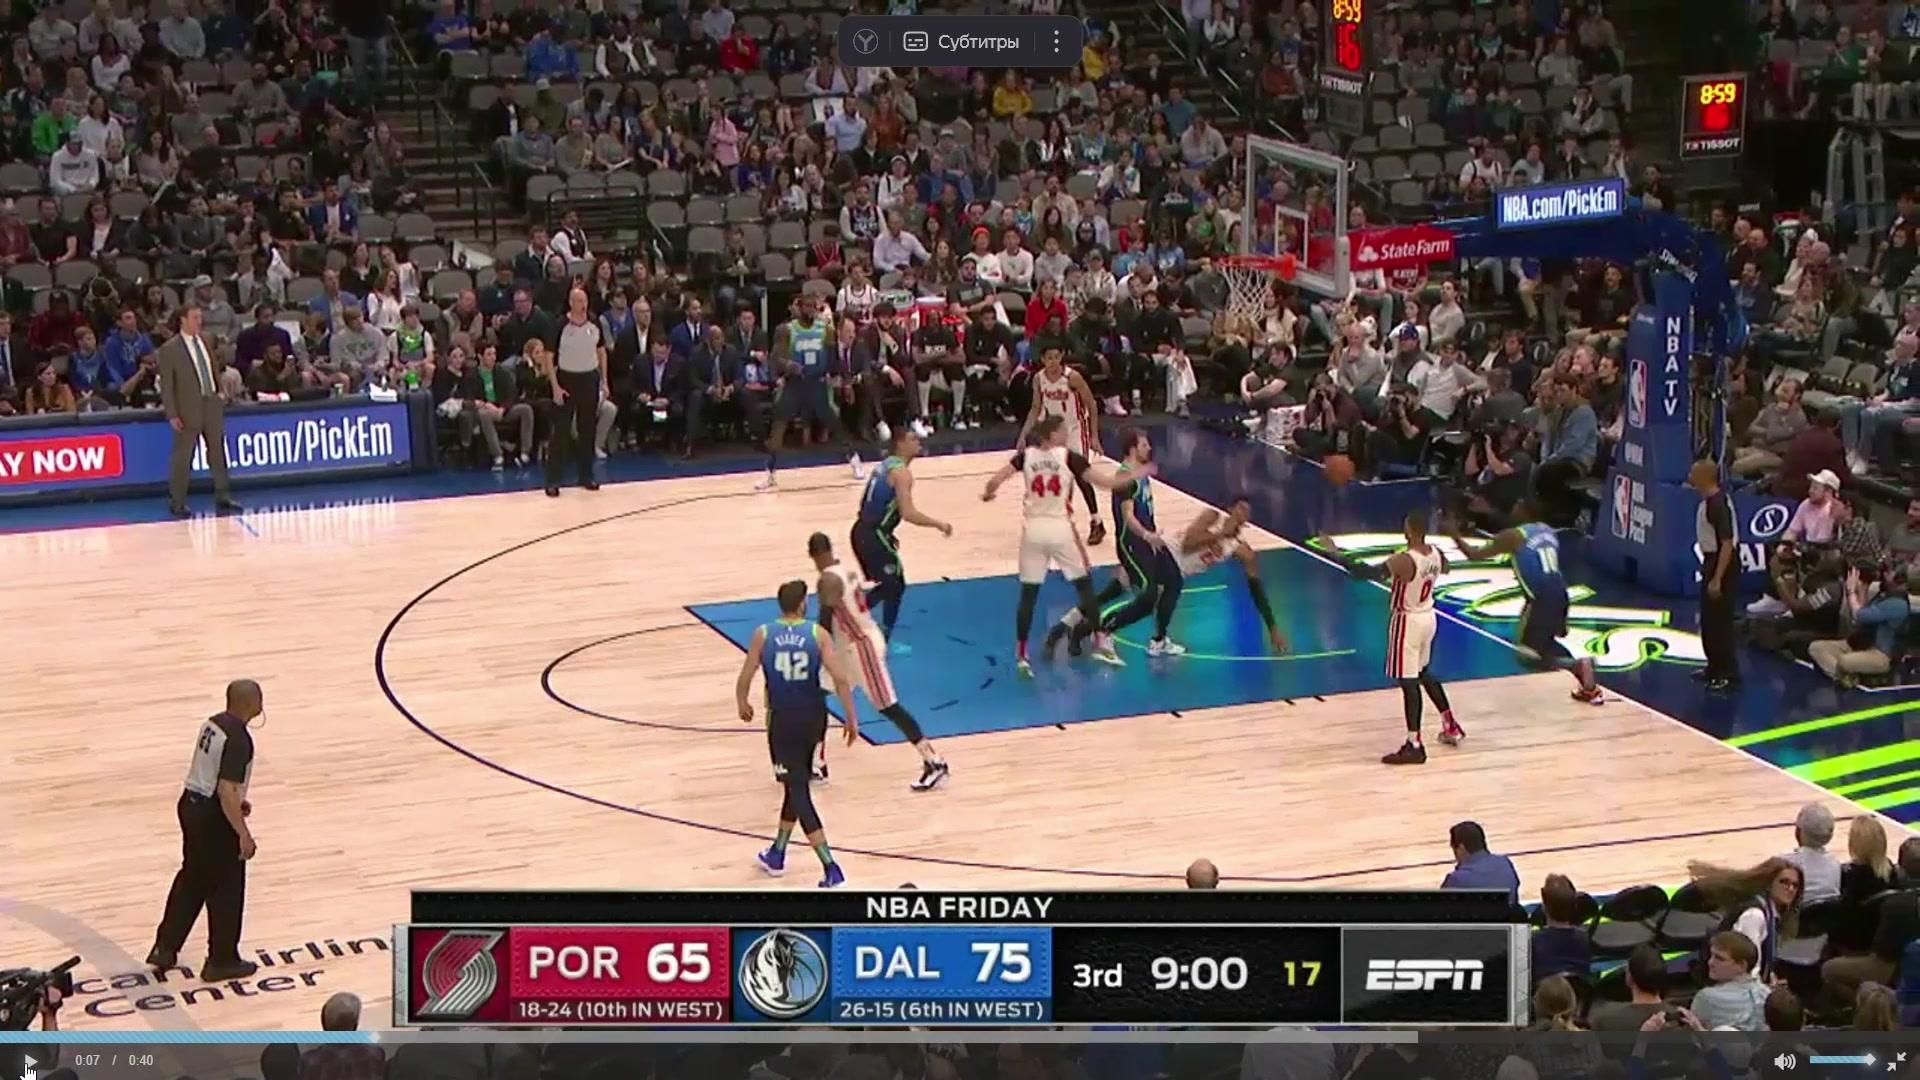foul: (1092, 418, 1308, 671)
